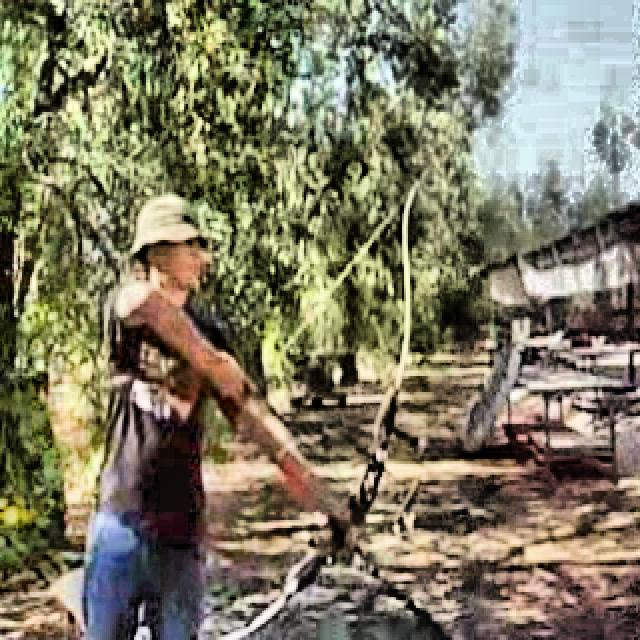I: (68, 190, 375, 632)
